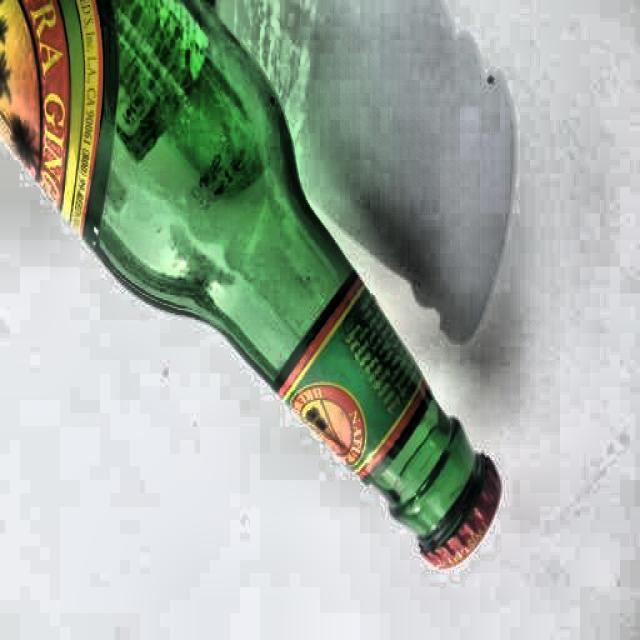glass: (0, 0, 501, 579)
